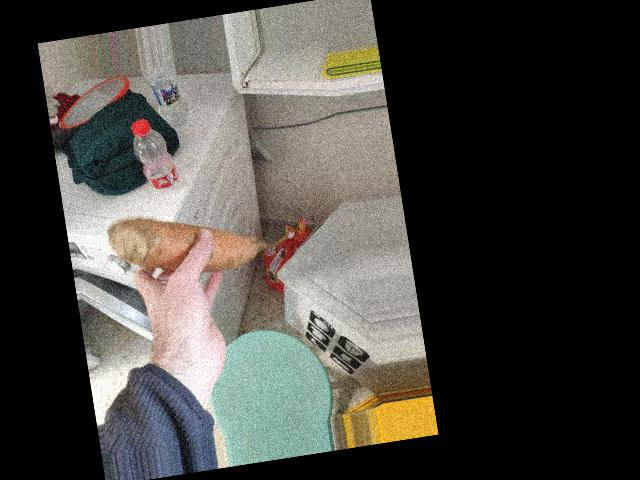sweet_potato: (109, 207, 273, 276)
